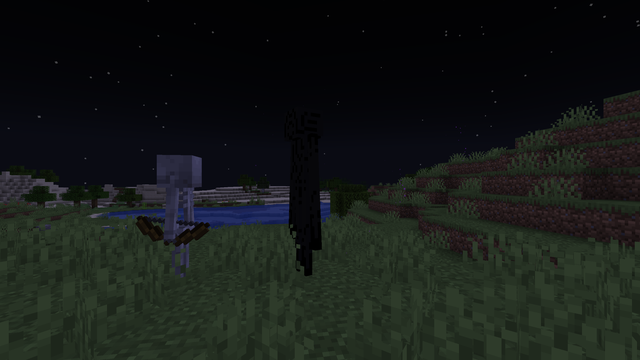endermens: (285, 101, 322, 279)
squelettes: (151, 155, 204, 288)
